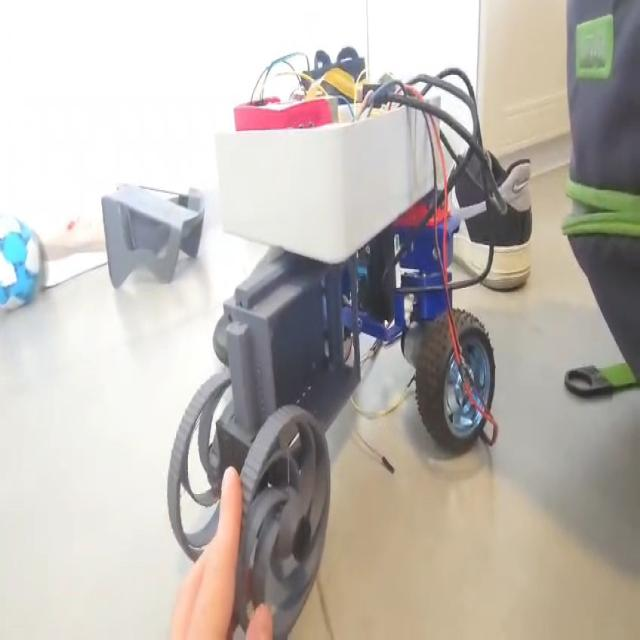Robot: (164, 35, 505, 640)
